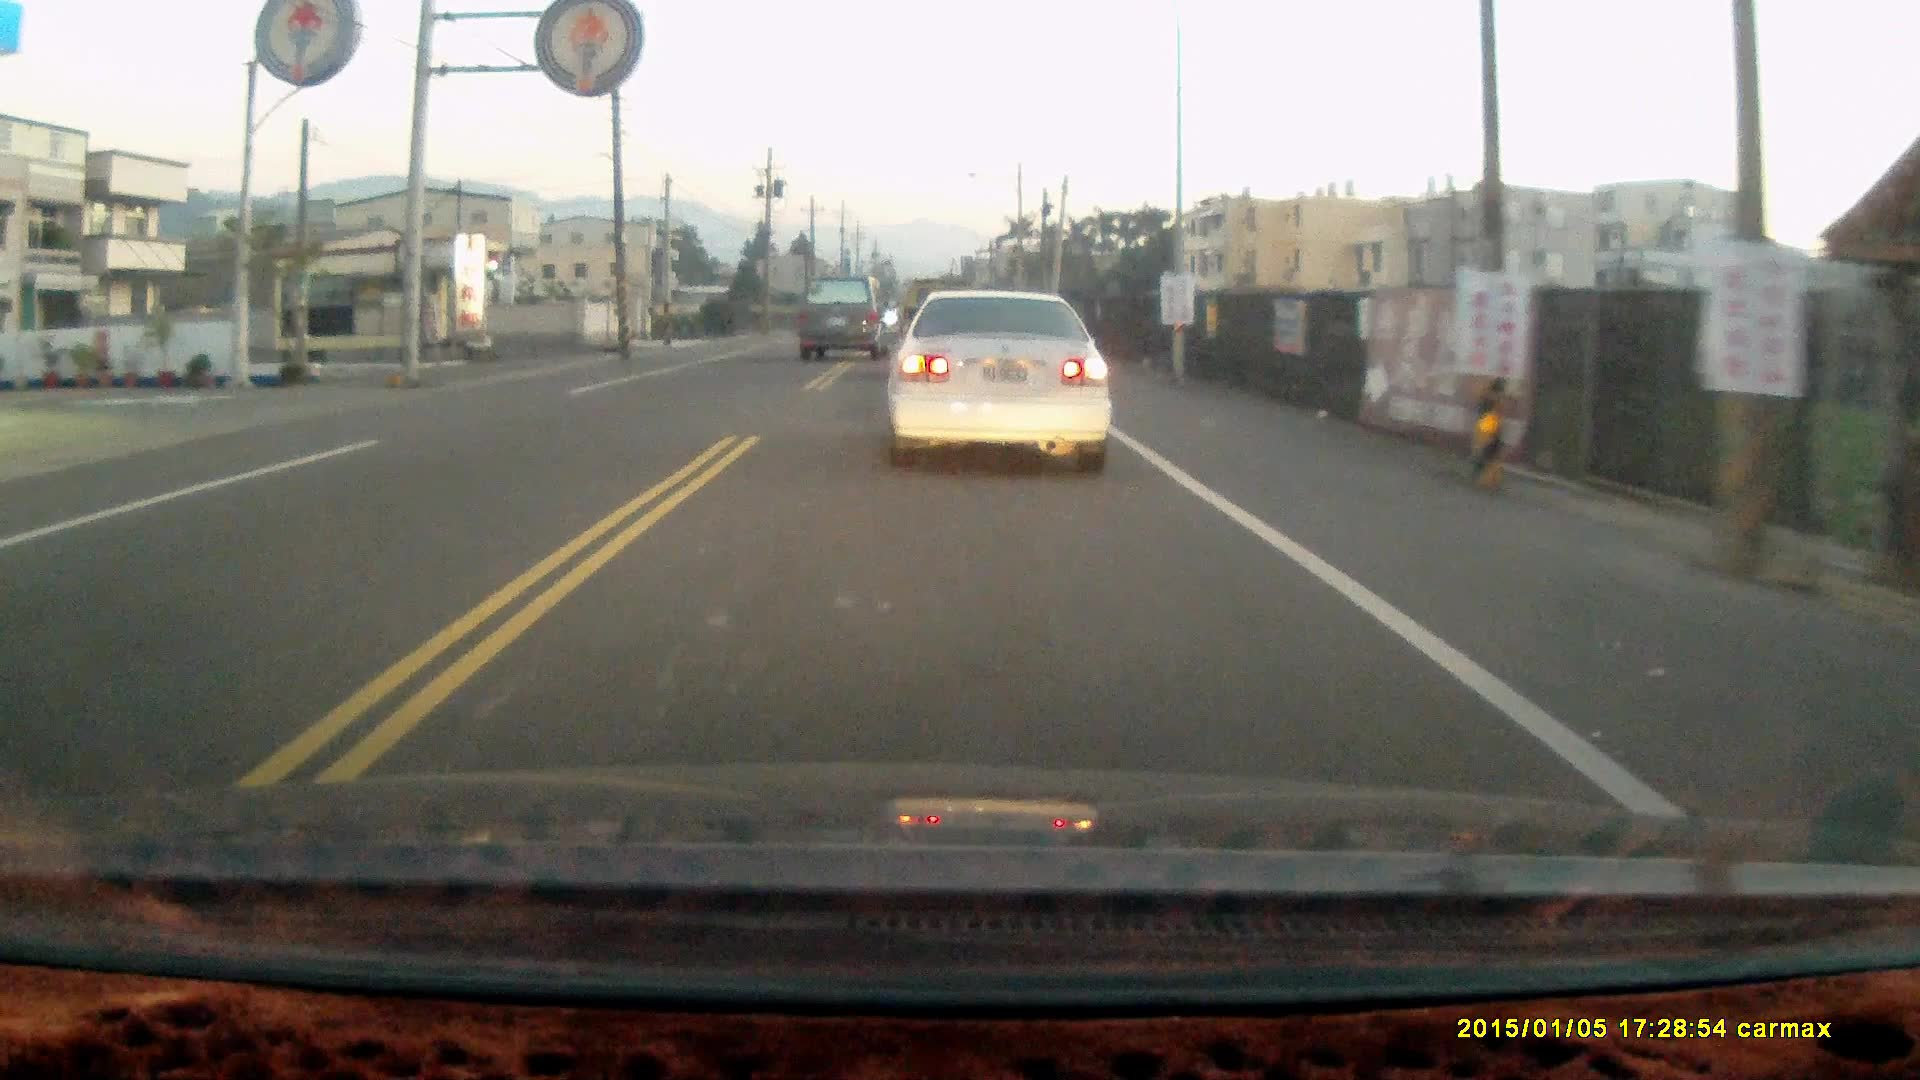vehicle: (884, 289, 1124, 479), (791, 272, 895, 364)
